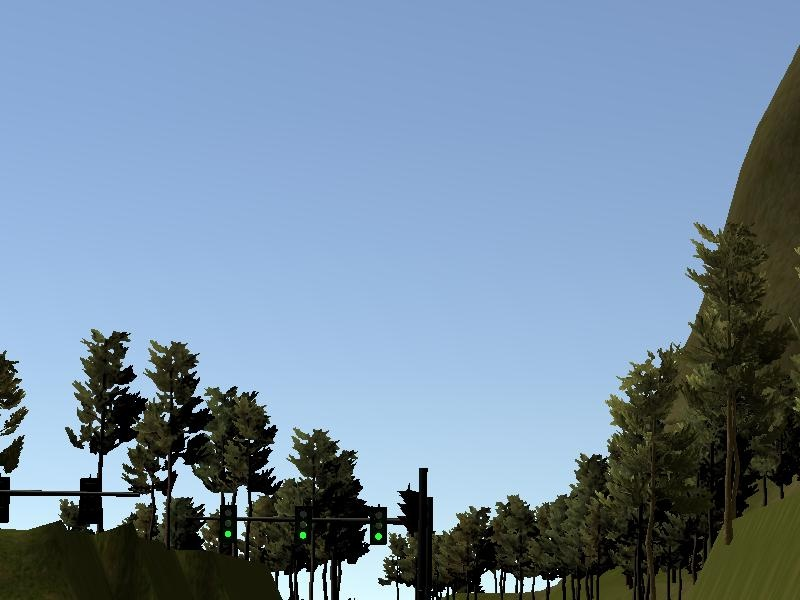GREEN: (292, 508, 312, 547), (369, 506, 388, 546), (221, 505, 237, 546)
